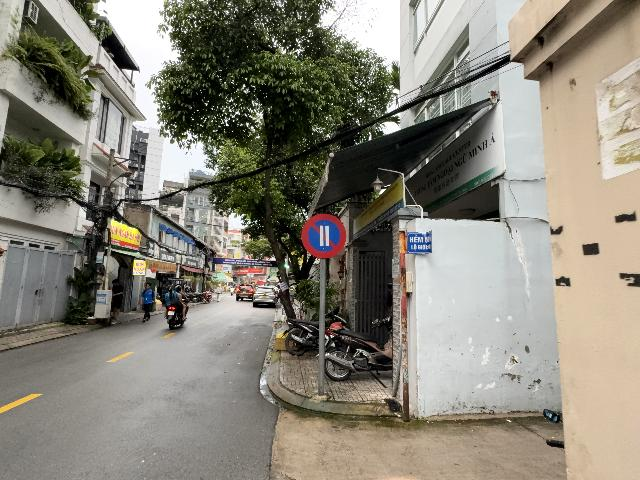cam-do-xe-ngay-chan: (301, 212, 346, 259)
